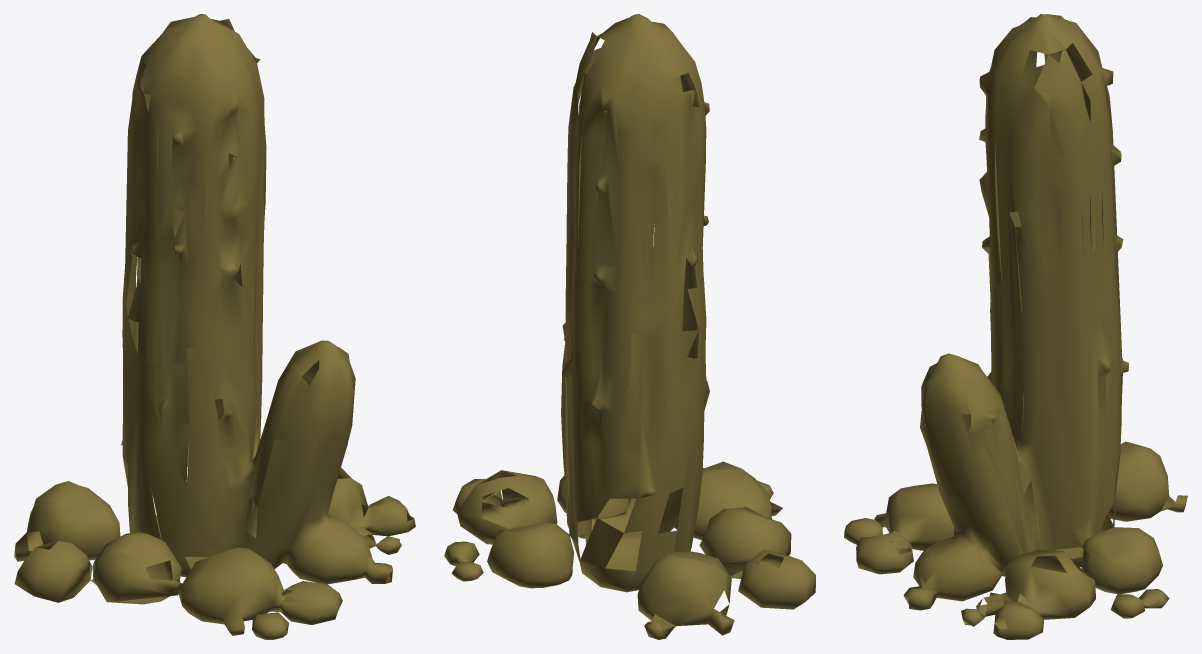
Rendered from cactus_de_dibujos_animados.glb.
The picture shows the model from 3 angles, left to right: view 1: azimuth 30°, elevation 25°; view 2: azimuth 150°, elevation 25°; view 3: azimuth 270°, elevation 25°; orthographic projection. The views are drawn at different scales.
Visible parts, largest first — view 1: cactus_de_dibujos_animados; view 2: cactus_de_dibujos_animados; view 3: cactus_de_dibujos_animados.
Boxes of the visible parts, bbox=[...] form: cactus_de_dibujos_animados: bbox=[14, 14, 415, 639]; cactus_de_dibujos_animados: bbox=[444, 14, 815, 639]; cactus_de_dibujos_animados: bbox=[844, 14, 1187, 639].
Size of what is drawn, in the model's own units: 0.914 by 1.3 by 0.7535.
Materials: 1 (1 with a texture image).
